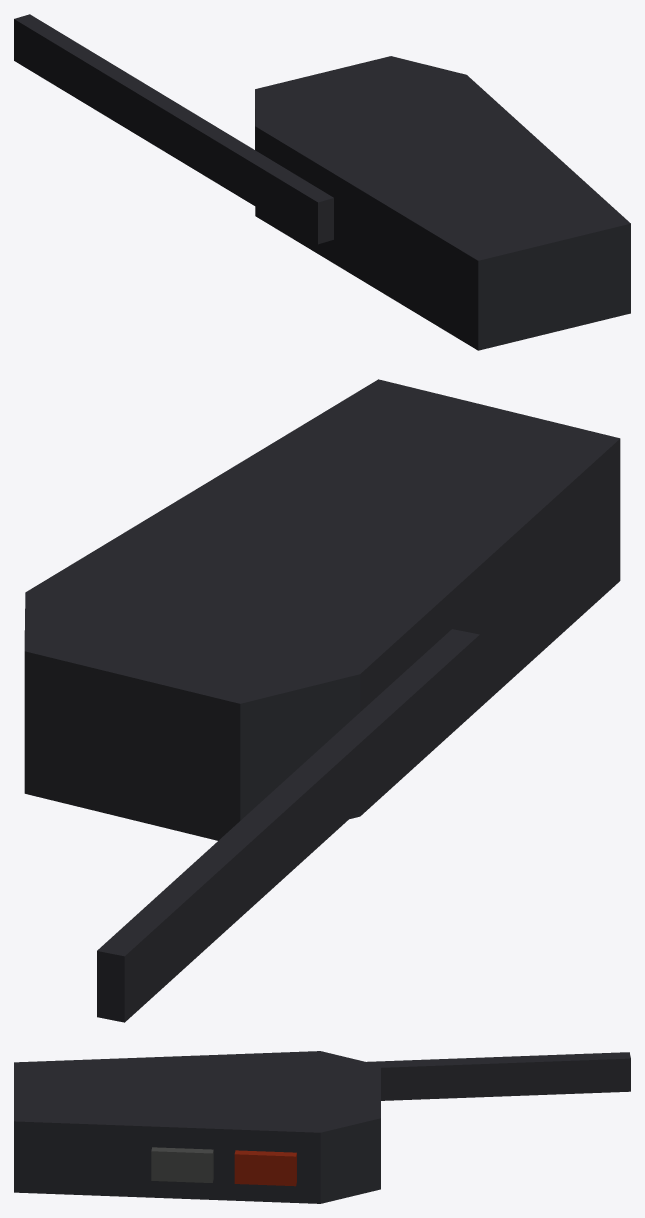
Rendered from LPWarPack_RadioB.fbx.
3 views of the same model, one above another, from view 1: azimuth 30°, elevation 25°; view 2: azimuth 150°, elevation 25°; view 3: azimuth 270°, elevation 25° (orthographic). The views are drawn at different scales.
Visible parts, largest first — view 1: RadioB; view 2: RadioB; view 3: RadioB.
Boxes of the visible parts, x1=… form: RadioB: x1=14, y1=14, x2=630, y2=350; RadioB: x1=24, y1=379, x2=620, y2=1022; RadioB: x1=14, y1=1051, x2=630, y2=1203.
Bounding box in the file's own units: 17.55 × 5.67 × 44.56.
